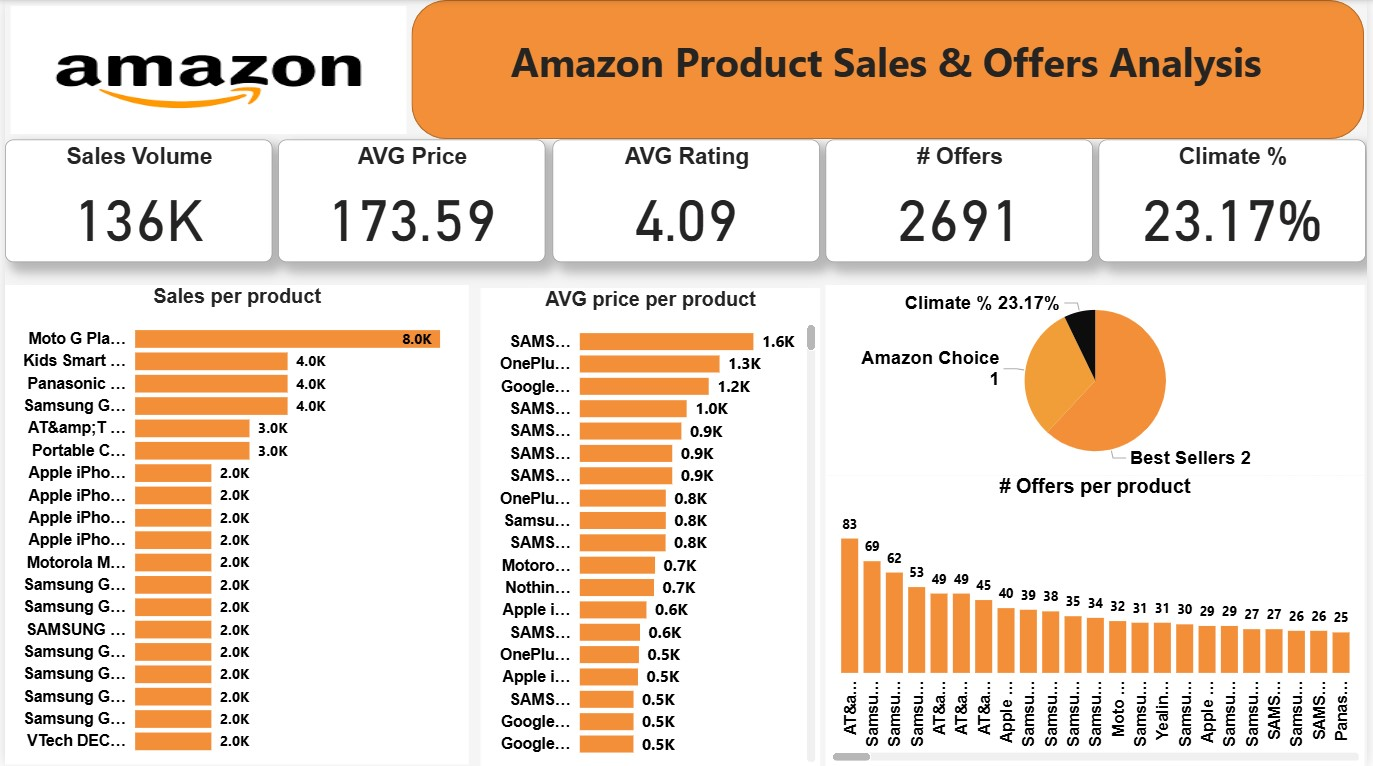

What the dashboard file says about the page in this screenshot:
{"tool":"powerbi","page":{"name":"Dashboard","canvas":[1280,720],"ordinal":0},"visuals":[{"type":"card","title":"Sales Volume","fields":{"Values":["phone search (1).Total Sales"]},"box":[0,131,251.4,115.2],"z":0},{"type":"card","title":"AVG Price","fields":{"Values":["phone search (1).AVG price"]},"box":[257.1,131,251.4,115.2],"z":1000},{"type":"card","title":"AVG Price Diff","fields":{"Values":["phone search (1).AVG price diff"]},"box":[514.2,131,251.4,115.2],"z":2000},{"type":"card","title":"# Offers","fields":{"Values":["phone search (1).Number of Offers"]},"box":[771.3,131,251.4,115.2],"z":3000},{"type":"card","title":"AVG Rating","fields":{"Values":["phone search (1).AVG rating"]},"box":[1028.4,131,251.4,115.2],"z":4000},{"type":"barChart","title":"Sales per product","fields":{"Category":["phone search (1).product_title"],"Y":["phone search (1).Total Sales"]},"box":[0,268.4,436.2,450.5],"z":5000},{"type":"pieChart","fields":{"Y":["phone search (1).Best Sellers","phone search (1).Amazon Choice","phone search (1).Climate %"]},"box":[771.7,268.4,506.5,178.9],"z":6000},{"type":"barChart","title":"AVG price per product","fields":{"Y":["phone search (1).AVG price"],"Category":["phone search (1).product_title"]},"box":[447.3,270,319.5,450.5],"z":8000},{"type":"clusteredColumnChart","title":"# Offers per product","fields":{"Category":["phone search (1).product_title"],"Y":["phone search (1).Number of Offers"]},"box":[771.7,447.3,506.5,273.2],"z":9000},{"type":"image","box":[0,0,382.3,130.8],"z":10000},{"type":"shape","box":[382.3,0,895.5,130.8],"z":11000},{"type":"textbox","title":"Amazon Product Sales & Offers Analysis","box":[397.8,27.2,861.1,150.2],"z":12000}]}

Visuals, with their boxes in screenshot pixels (x1, y1, x2, y2), scaled from the page's 1280x720 canvas onto the 1373x766 screenshot:
"Sales Volume" card: select_region(0, 139, 270, 262)
"AVG Price" card: select_region(276, 139, 545, 262)
"AVG Price Diff" card: select_region(552, 139, 821, 262)
"# Offers" card: select_region(827, 139, 1097, 262)
"AVG Rating" card: select_region(1103, 139, 1372, 262)
"Sales per product" barChart: select_region(0, 286, 468, 765)
pieChart - phone search (1).Best Sellers x phone search (1).Amazon Choice: select_region(828, 286, 1371, 476)
"AVG price per product" barChart: select_region(480, 287, 823, 765)
"# Offers per product" clusteredColumnChart: select_region(828, 476, 1371, 765)
image: select_region(0, 0, 410, 139)
shape: select_region(410, 0, 1371, 139)
"Amazon Product Sales & Offers Analysis" textbox: select_region(427, 29, 1350, 189)
